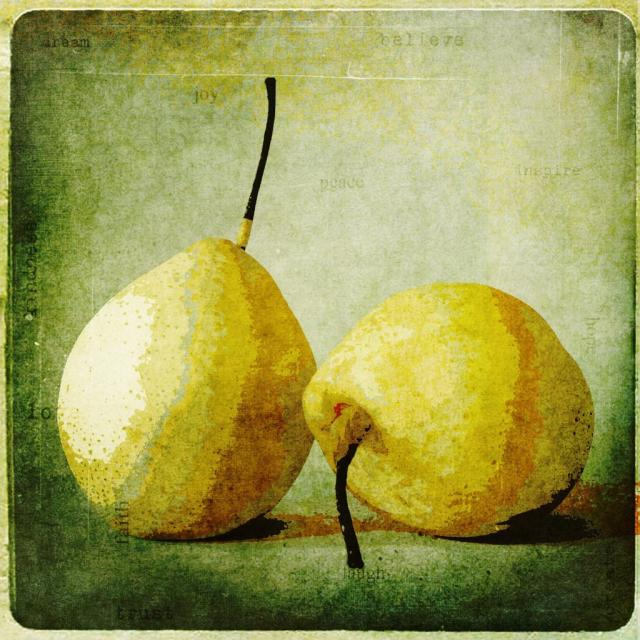pear: (55, 75, 322, 542), (299, 284, 597, 570)
